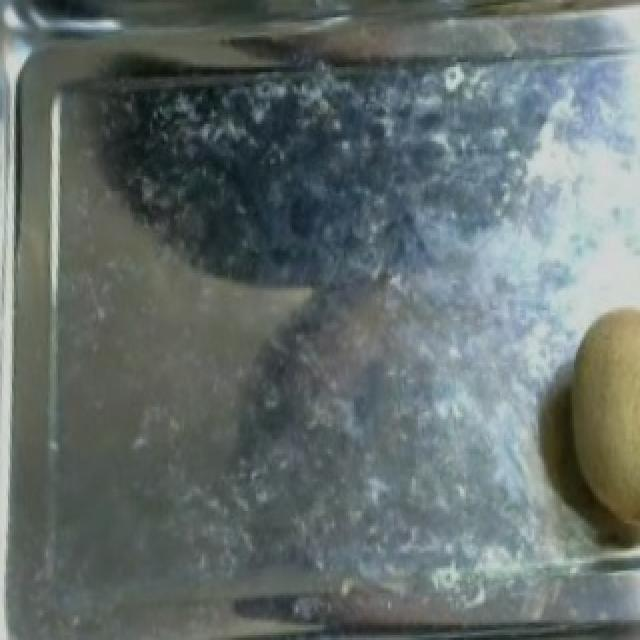Fruit: (552, 288, 640, 541)
